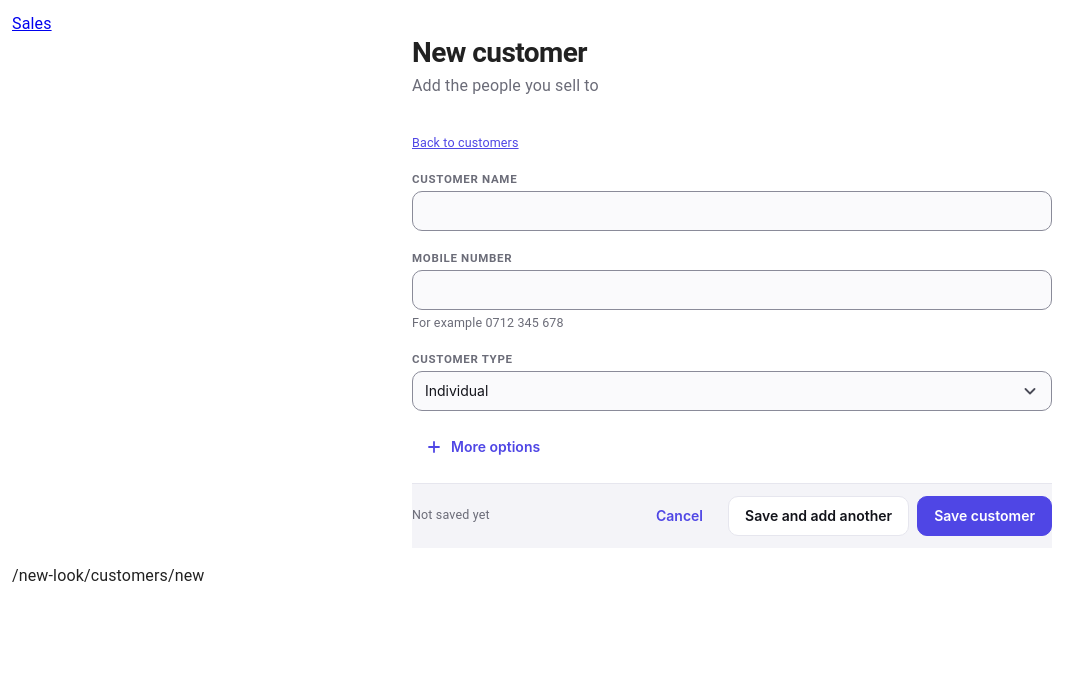
Test: what must be filled in › one problem says "Fix 1 thing"
Step 1. Type "Amina" into the field labelled "Customer name" → point(732, 211), box 413,192 -> 1051,230
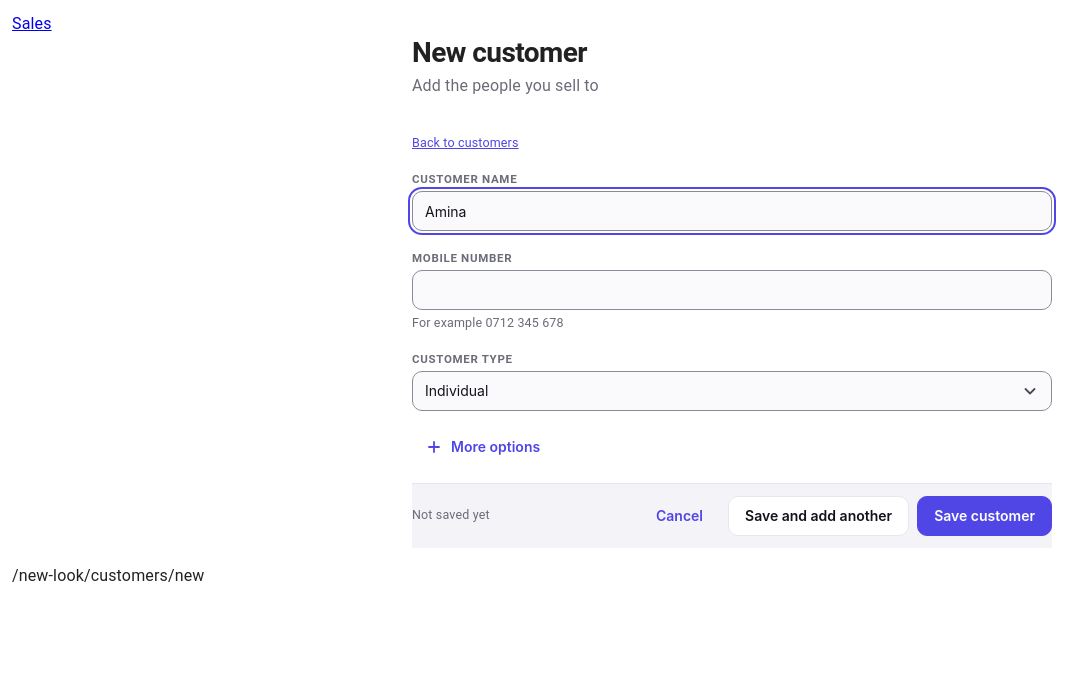
Step 2. Click the button "Save customer" → point(985, 516), box 917,496 -> 1052,536
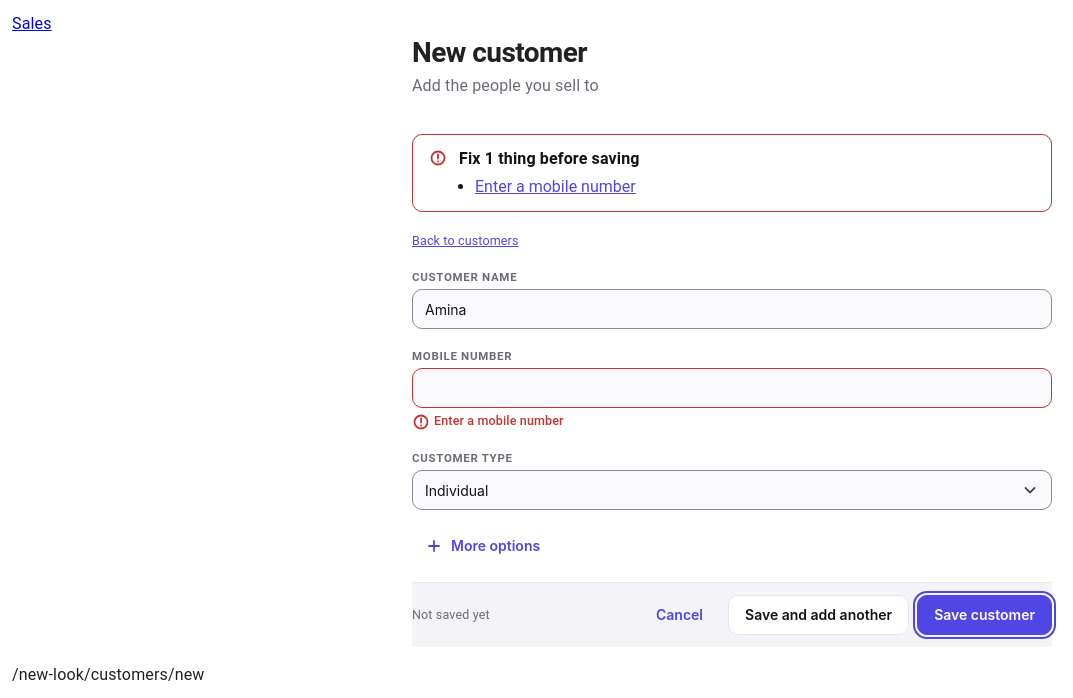
Expected: the text "Fix 1 thing before saving" is shown, 459,147 -> 640,171
